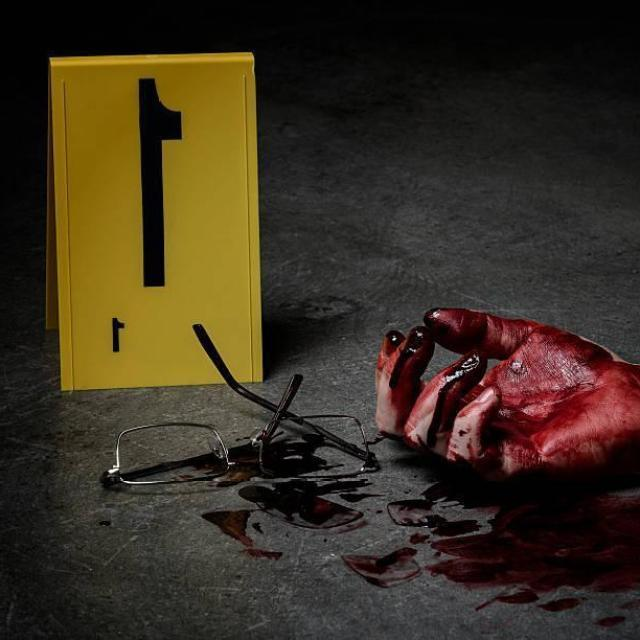flood: (360, 295, 640, 623)
